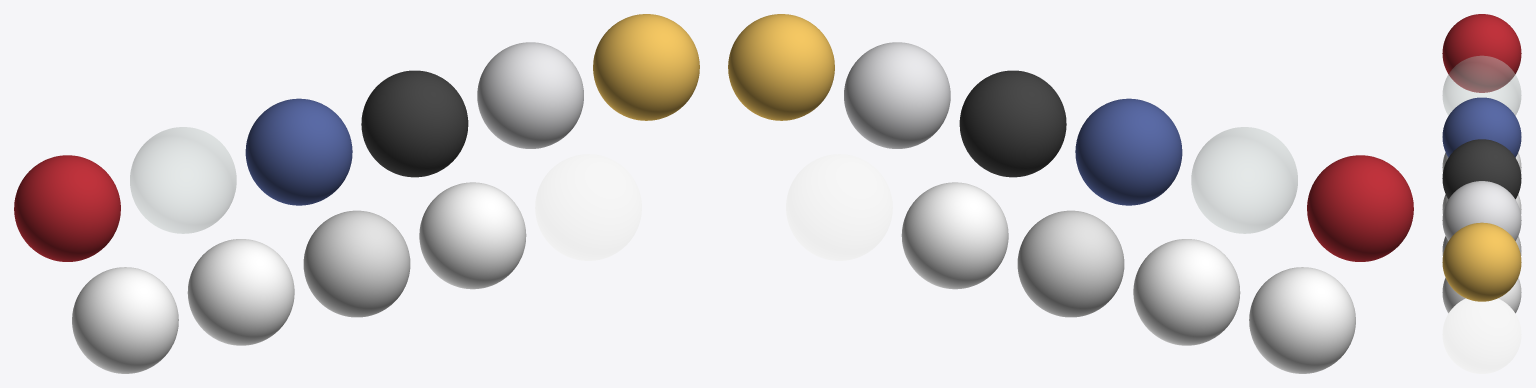
File: materials.glb
3 renders of one model, left to right at view 1: azimuth 30°, elevation 25°; view 2: azimuth 150°, elevation 25°; view 3: azimuth 270°, elevation 25°, orthographic. The views are drawn at different scales.
Visible parts, largest first — view 1: Fabric, Soap Film, Toon, Worn Paint, Gold, Car Paint, Brushed Metal, Cel (Shader to RGB), Glass BSDF, Plastic, Glass; view 2: Fabric, Soap Film, Toon, Worn Paint, Gold, Car Paint, Brushed Metal, Cel (Shader to RGB), Glass BSDF, Plastic, Glass; view 3: Plastic, Car Paint, Cel (Shader to RGB), Soap Film, Fabric, Brushed Metal, Glass, Toon, Gold, Worn Paint, Glass BSDF.
Boxes of the visible parts, <box> form: Fabric: <box>245,98,352,205</box>; Soap Film: <box>361,70,468,177</box>; Toon: <box>419,182,526,289</box>; Worn Paint: <box>303,210,410,317</box>; Gold: <box>187,239,294,345</box>; Car Paint: <box>14,155,120,261</box>; Brushed Metal: <box>477,42,583,148</box>; Cel (Shader to RGB): <box>535,154,641,260</box>; Glass BSDF: <box>72,267,178,373</box>; Plastic: <box>593,14,699,120</box>; Glass: <box>130,127,236,233</box>; Fabric: <box>1075,98,1182,205</box>; Soap Film: <box>959,70,1066,177</box>; Toon: <box>901,182,1008,289</box>; Worn Paint: <box>1017,210,1124,317</box>; Gold: <box>1133,239,1240,345</box>; Car Paint: <box>1307,155,1413,261</box>; Brushed Metal: <box>844,42,950,148</box>; Cel (Shader to RGB): <box>786,154,892,260</box>; Glass BSDF: <box>1249,267,1355,373</box>; Plastic: <box>728,14,834,120</box>; Glass: <box>1191,127,1297,233</box>; Plastic: <box>1442,222,1521,301</box>; Car Paint: <box>1442,14,1521,92</box>; Cel (Shader to RGB): <box>1442,298,1521,373</box>; Soap Film: <box>1442,139,1521,199</box>; Fabric: <box>1442,97,1521,157</box>; Brushed Metal: <box>1442,181,1521,240</box>; Glass: <box>1442,56,1521,115</box>; Toon: <box>1442,278,1521,313</box>; Gold: <box>1442,194,1521,213</box>; Worn Paint: <box>1442,236,1521,255</box>; Glass BSDF: <box>1442,152,1521,171</box>.
Bounding box in the file's own units: 7.25 × 2.3 × 1.
